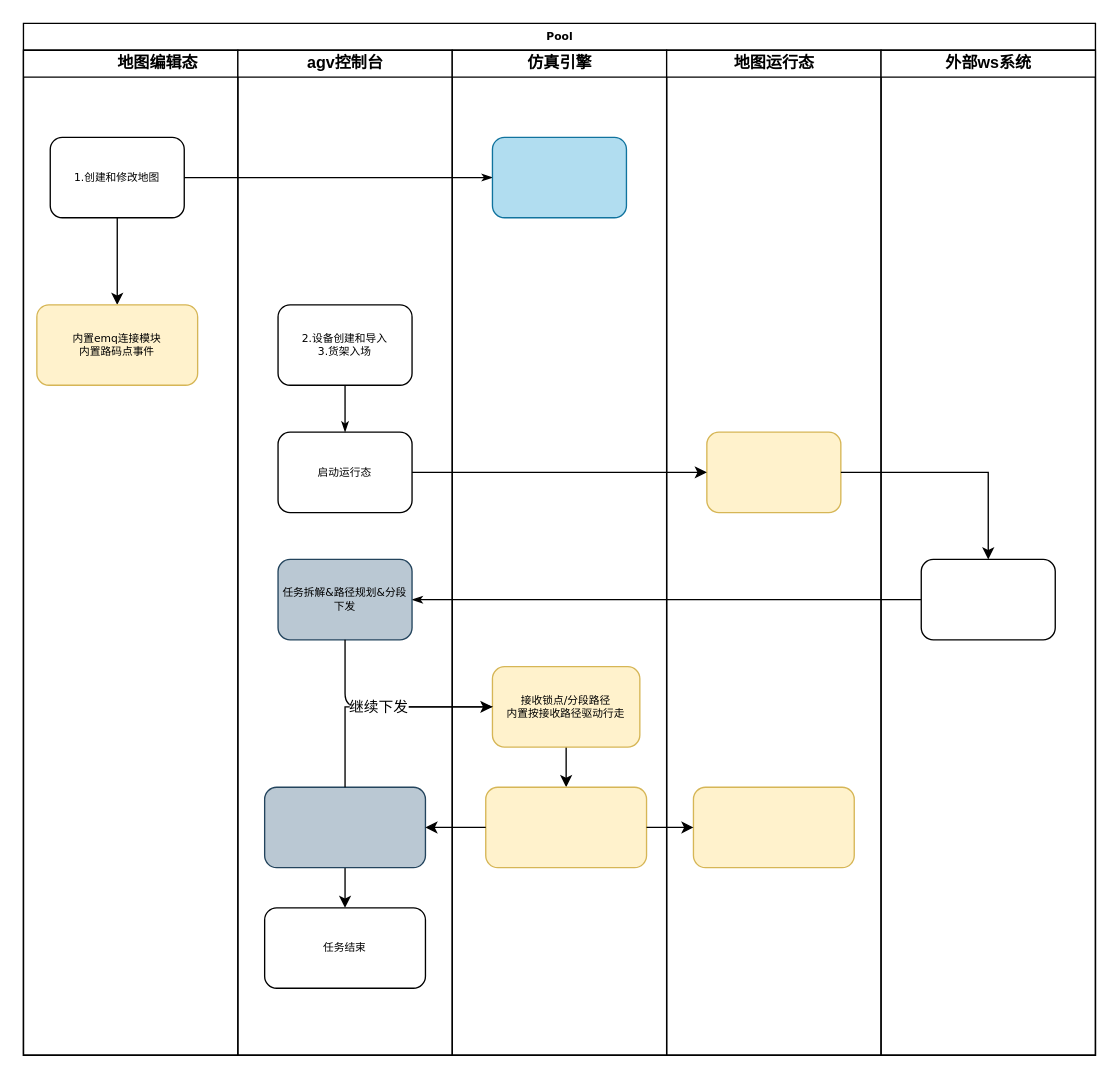
Some shapes in this 1119 by 1079 pixel diagram are drawn without their labels. Here are the shapes that lost their labels. From the top down, the centre of each, then its label:
point (558, 177): 建模 （路码点&路线为主）
point (773, 472): 初始化agv位置 内置agv注册
point (987, 599): openApi 模拟任务下发
point (344, 827): 控制台处理事件
point (565, 827): 在码点上报事件
point (773, 827): 实时展示
